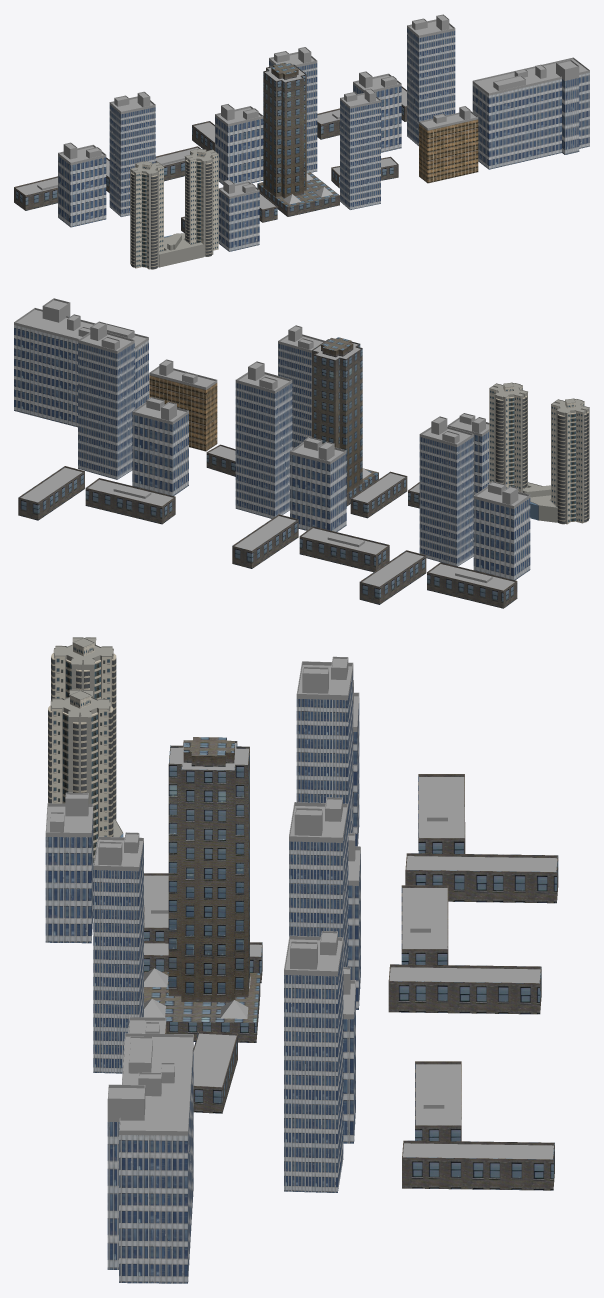
3 views of the same model, one above another, from view 1: azimuth 30°, elevation 25°; view 2: azimuth 150°, elevation 25°; view 3: azimuth 270°, elevation 25° (orthographic). The views are drawn at different scales.
Parts seen in each view (by area): view 1: 配楼010ok; view 2: 配楼010ok; view 3: 配楼010ok.
Boxes of the visible parts, <box> form: 配楼010ok: <box>14,14,589,269</box>; 配楼010ok: <box>14,298,589,608</box>; 配楼010ok: <box>45,637,558,1283</box>.
Size of the model in its own units: 24829 by 6358 by 11240.
